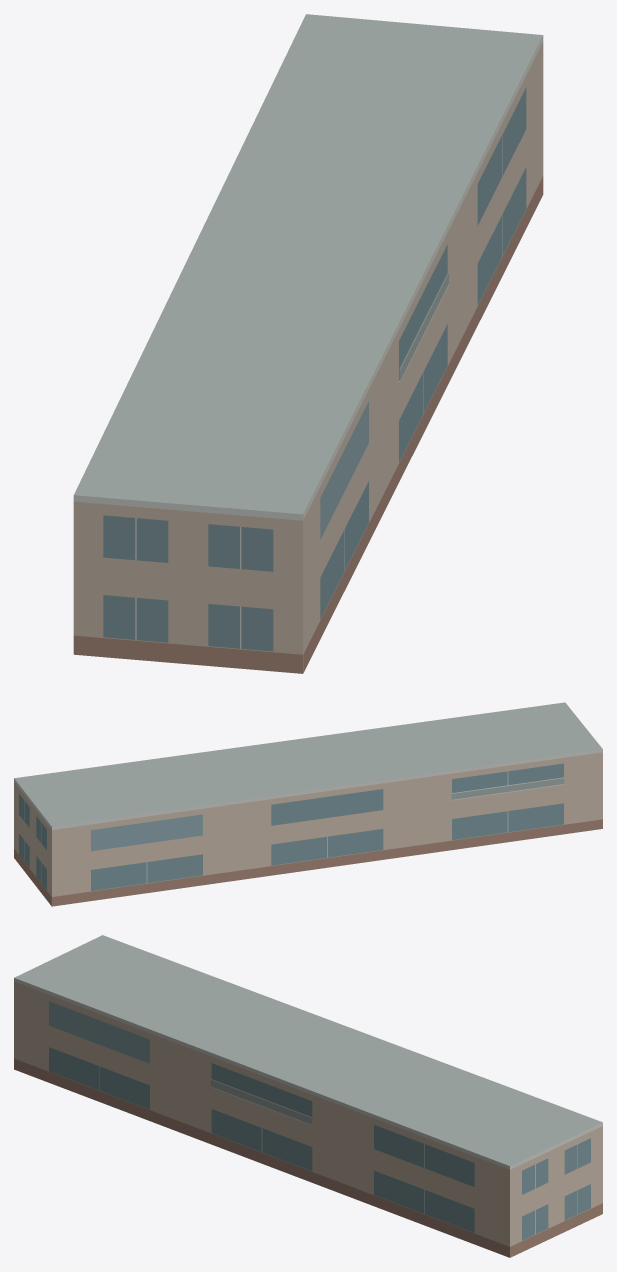
Rendered from survey-upis-32904441.glb.
3 renders of one model, top to bottom at view 1: azimuth 30°, elevation 25°; view 2: azimuth 150°, elevation 25°; view 3: azimuth 270°, elevation 25°, orthographic. The views are drawn at different scales.
Parts seen in each view (by area): view 1: survey-upis-32904441.tmp; view 2: survey-upis-32904441.tmp; view 3: survey-upis-32904441.tmp.
Part boxes in pixels (x1=…): survey-upis-32904441.tmp: x1=73, y1=14, x2=543, y2=673; survey-upis-32904441.tmp: x1=14, y1=702, x2=602, y2=906; survey-upis-32904441.tmp: x1=14, y1=935, x2=602, y2=1257.
Bounding box in the file's own units: 32.99 × 6.1 × 35.51.
